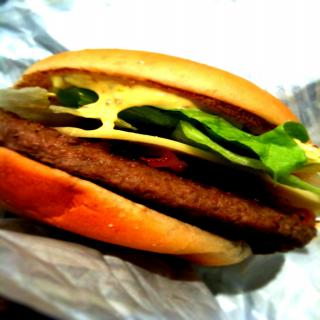Hamburger: (0, 49, 320, 296), (0, 49, 320, 268)
